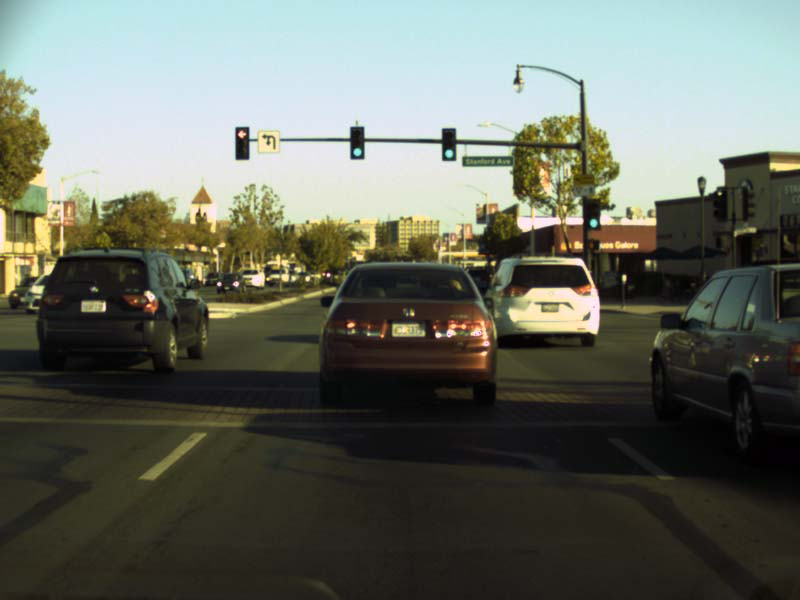Green: (583, 198, 601, 229), (349, 126, 364, 159), (441, 128, 455, 160)
Red: (235, 127, 248, 160)
